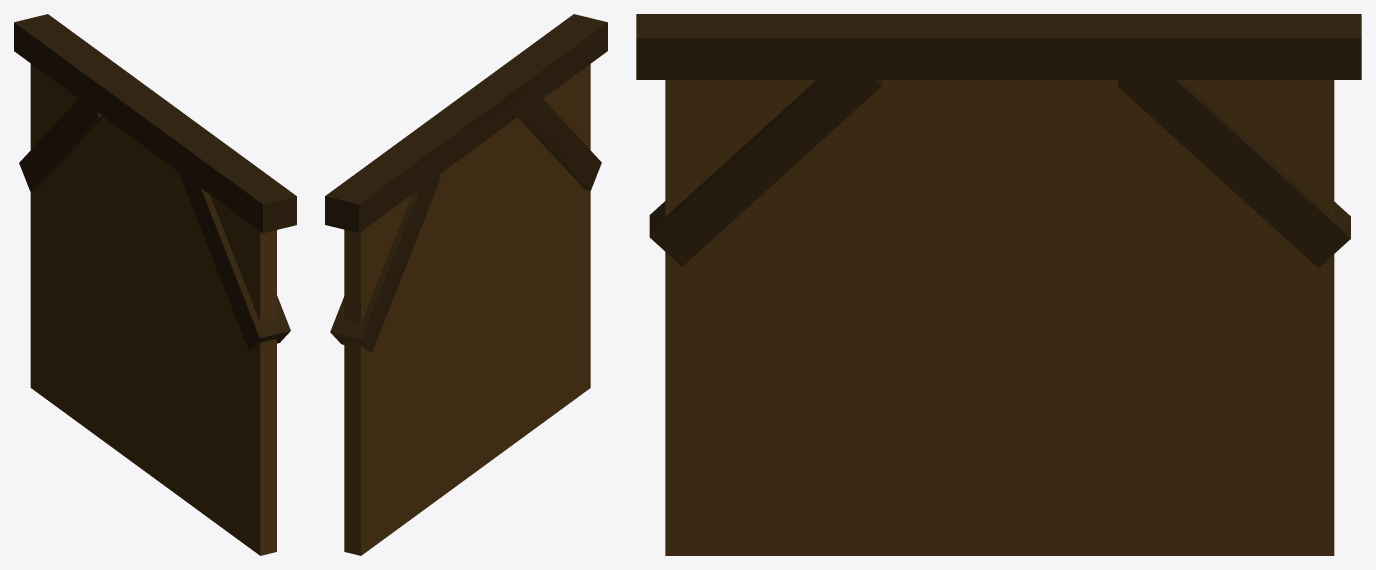
Rendered from Inn_wall_half.fbx.
3 views of the same model, side by side, from view 1: azimuth 30°, elevation 25°; view 2: azimuth 150°, elevation 25°; view 3: azimuth 270°, elevation 25° (orthographic). The views are drawn at different scales.
Visible parts, largest first — view 1: Cube.122; view 2: Cube.122; view 3: Cube.122.
Part boxes in pixels (x1,y1,x2,y2): Cube.122: (14, 14, 296, 555); Cube.122: (325, 14, 607, 555); Cube.122: (636, 14, 1361, 555).
Bounding box in the file's own units: 22.83 × 231 × 289.
1 material, 1 textured.
